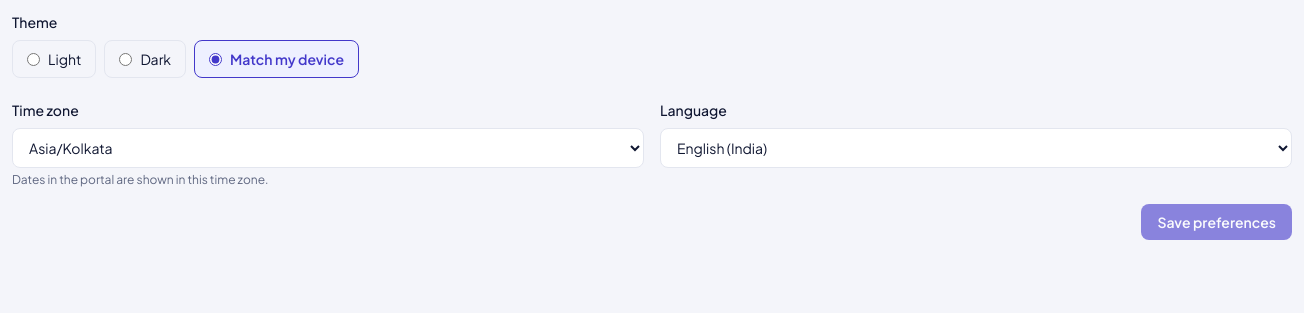
it: PreferencesForm › shows the server’s message and flags a conflict
Select "Asia/Dubai" in the dropdown labelled "Time zone" at (328, 148), box 12,128 -> 644,168
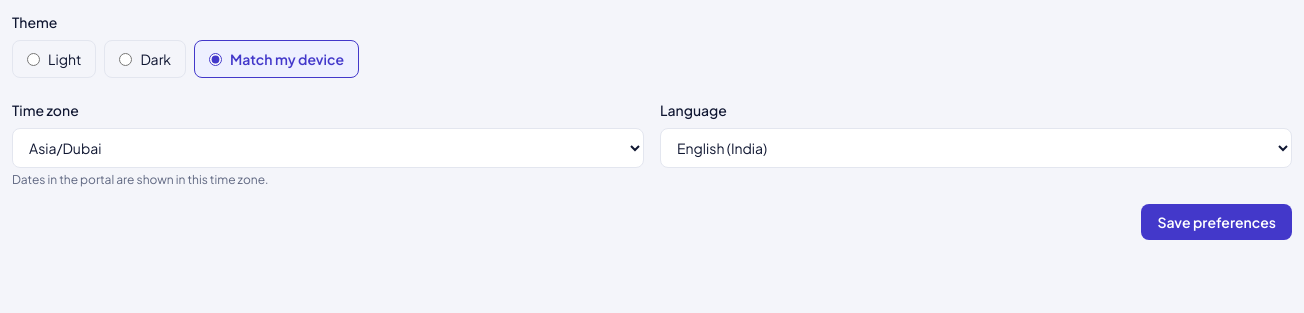
Click the button "Save preferences" at (1217, 222), box 1142,204 -> 1292,240
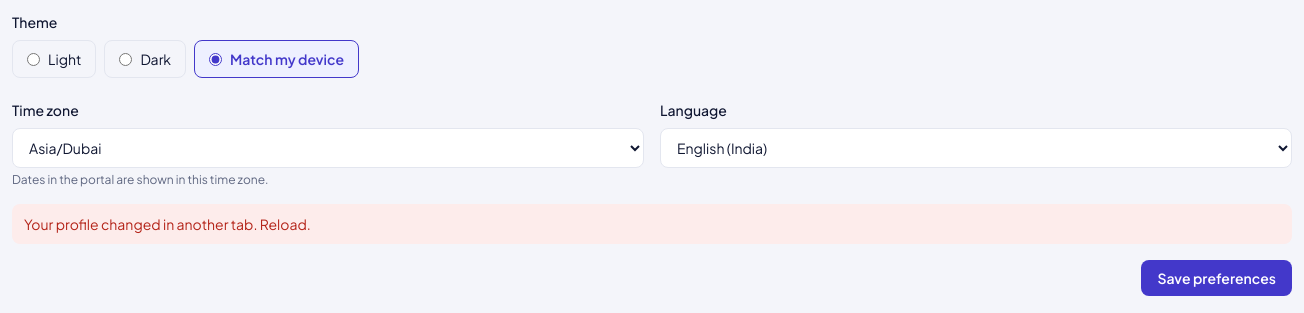
Result: the message reads "Your profile changed in another tab. Reload." at 24,215 -> 311,233
